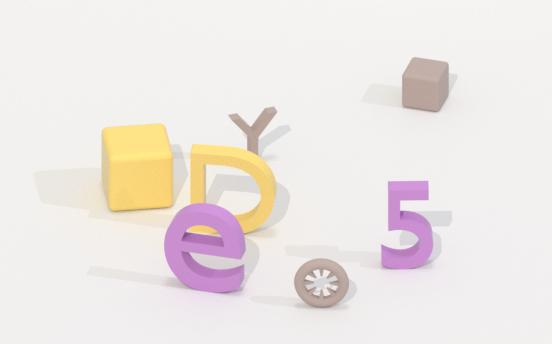5: (380, 174, 436, 276)
Y-hoa: (228, 99, 279, 168)
d: (183, 134, 281, 250)
e: (163, 192, 248, 293)
hop: (94, 120, 178, 217), (390, 50, 454, 117)
tron: (293, 251, 348, 317)
